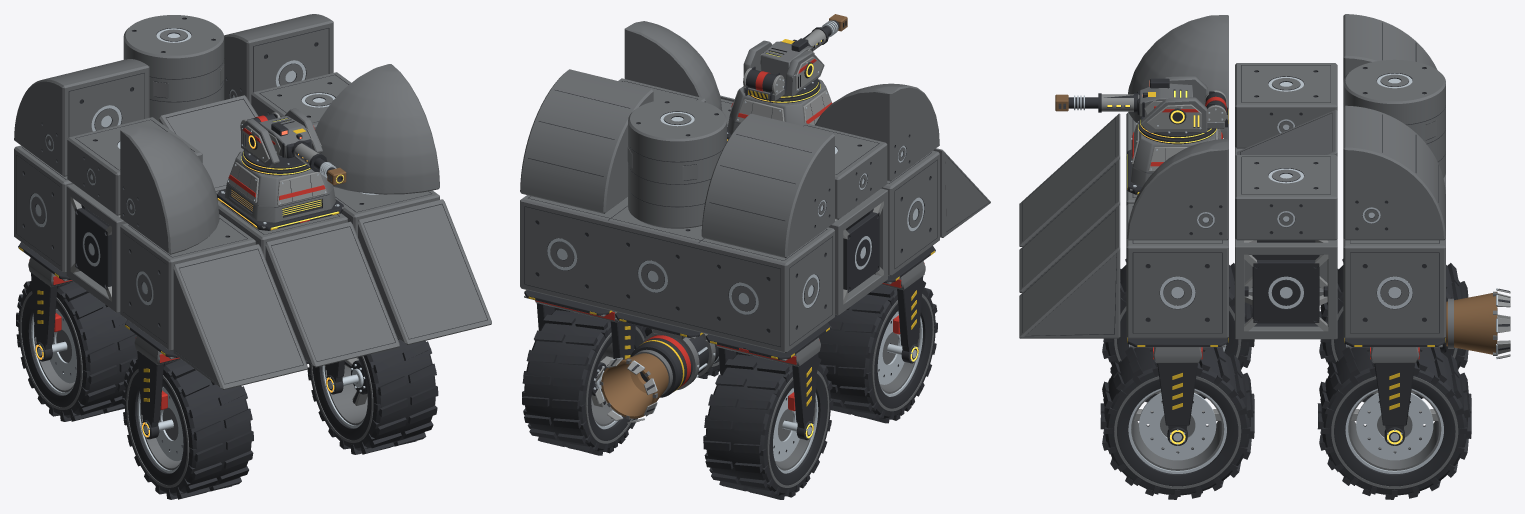
File: R4_Compat_Vehicle.glb
The picture shows the model from 3 angles, left to right: view 1: azimuth 30°, elevation 25°; view 2: azimuth 150°, elevation 25°; view 3: azimuth 270°, elevation 25°; orthographic projection. The views are drawn at different scales.
Parts seen in each view (by area): view 1: R4B_Wedge, R4B_Wedge.001, R4B_Wedge.002, R4M_Wheel_Rotor, R4B_RoundCorner.001, R4M_Wheel_Rotor.002, R4M_Wheel_Rotor.001, R4B_RoundCorner, R4B_RoundEdge, R4B_Cylinder, R4B_RoundEdge.001, R4B_Cube (+13 smaller); view 2: R4B_Beam3, R4B_RoundEdge, R4M_Wheel_Rotor.002, R4B_RoundEdge.001, R4M_Wheel_Rotor.003, R4B_Cylinder, R4M_Wheel_Rotor, R4B_RoundCorner, R4M_Booster_Housing, R4B_TrussCube, R4B_RoundCorner.001, R4B_Cube (+9 smaller); view 3: R4M_Wheel_Rotor.001, R4M_Wheel_Rotor.003, R4B_RoundEdge.001, R4B_Cube.002, R4B_Beam3, R4B_TrussCube.001, R4B_Wedge.002, R4B_HalfBlock.001, R4B_RoundCorner.001, R4B_HalfBlock, R4B_Cylinder, R4B_RoundCorner (+13 smaller).
Part boxes in pixels (left/top/right/bottom): R4B_Wedge: left=173, top=244, right=307, bottom=389; R4B_Wedge.001: left=265, top=221, right=399, bottom=367; R4B_Wedge.002: left=358, top=199, right=491, bottom=344; R4M_Wheel_Rotor: left=122, top=358, right=253, bottom=499; R4B_RoundCorner.001: left=315, top=64, right=439, bottom=194; R4M_Wheel_Rotor.002: left=16, top=281, right=137, bottom=421; R4M_Wheel_Rotor.001: left=307, top=337, right=438, bottom=454; R4B_RoundCorner: left=120, top=126, right=219, bottom=254; R4B_RoundEdge: left=14, top=59, right=149, bottom=176; R4B_Cylinder: left=123, top=15, right=224, bottom=121; R4B_RoundEdge.001: left=224, top=14, right=333, bottom=103; R4B_Cube: left=120, top=214, right=255, bottom=350; R4B_Beam3: left=520, top=195, right=834, bottom=352; R4B_RoundEdge: left=701, top=113, right=834, bottom=258; R4M_Wheel_Rotor.002: left=703, top=351, right=833, bottom=499; R4B_RoundEdge.001: left=520, top=69, right=653, bottom=213; R4M_Wheel_Rotor.003: left=522, top=307, right=646, bottom=455; R4B_Cylinder: left=627, top=98, right=726, bottom=228; R4M_Wheel_Rotor: left=818, top=280, right=937, bottom=423; R4B_RoundCorner: left=815, top=83, right=939, bottom=181; R4M_Booster_Housing: left=599, top=312, right=718, bottom=419; R4B_TrussCube: left=828, top=188, right=887, bottom=315; R4B_RoundCorner.001: left=624, top=21, right=722, bottom=110; R4B_Cube: left=873, top=150, right=939, bottom=276; R4M_Wheel_Rotor.001: left=1100, top=347, right=1254, bottom=499; R4M_Wheel_Rotor.003: left=1317, top=347, right=1471, bottom=499; R4B_RoundEdge.001: left=1343, top=105, right=1445, bottom=240; R4B_Cube.002: left=1126, top=204, right=1228, bottom=338; R4B_Beam3: left=1343, top=174, right=1445, bottom=338; R4B_TrussCube.001: left=1235, top=239, right=1337, bottom=339; R4B_Wedge.002: left=1019, top=205, right=1120, bottom=338; R4B_HalfBlock.001: left=1235, top=155, right=1337, bottom=240; R4B_RoundCorner.001: left=1126, top=139, right=1228, bottom=240; R4B_HalfBlock: left=1235, top=63, right=1337, bottom=148; R4B_Cylinder: left=1343, top=59, right=1445, bottom=177; R4B_RoundCorner: left=1128, top=15, right=1228, bottom=139.
Bounding box in the file's own units: 1.62 × 2.01 × 2.49.
